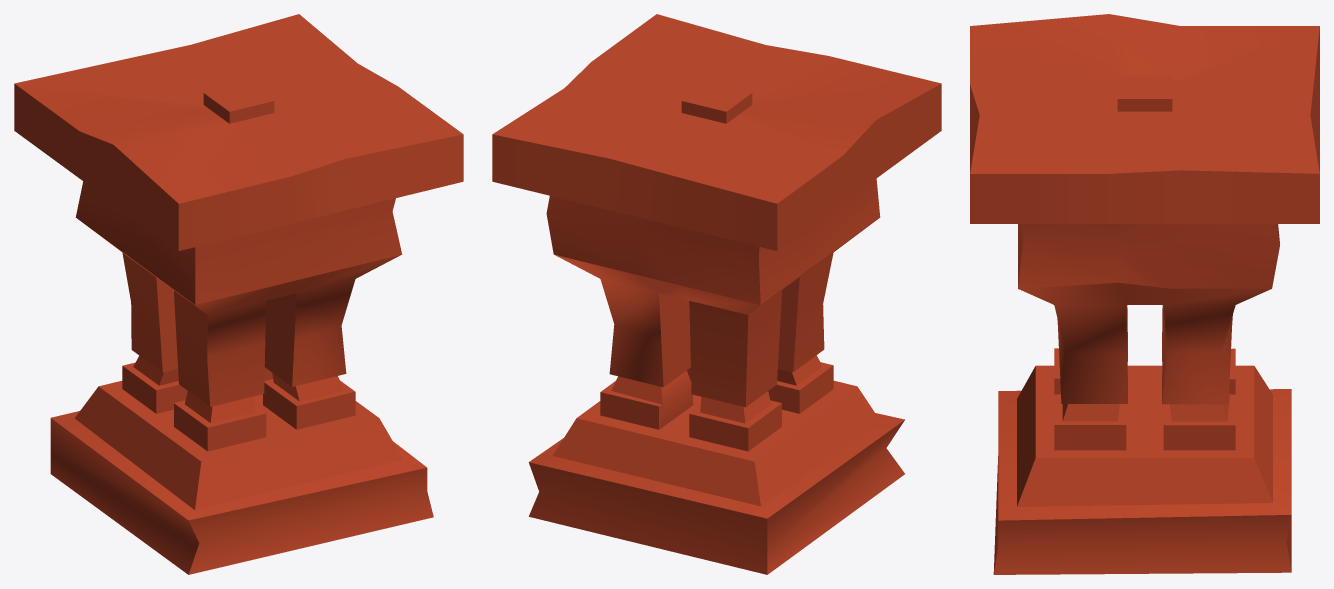
Rendered from Pedastal.FBX.
The picture shows the model from 3 angles, left to right: view 1: azimuth 30°, elevation 25°; view 2: azimuth 150°, elevation 25°; view 3: azimuth 270°, elevation 25°; orthographic projection. The views are drawn at different scales.
Parts seen in each view (by area): view 1: Pedestal; view 2: Pedestal; view 3: Pedestal.
Boxes of the visible parts, x1,y1,x2,y2 form: Pedestal: [14, 14, 463, 574]; Pedestal: [492, 14, 941, 574]; Pedestal: [970, 14, 1319, 574].
Bounding box in the file's own units: 28.6 × 38.22 × 28.6.
